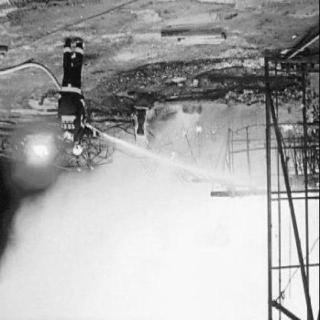Fire: (274, 119, 301, 137)
